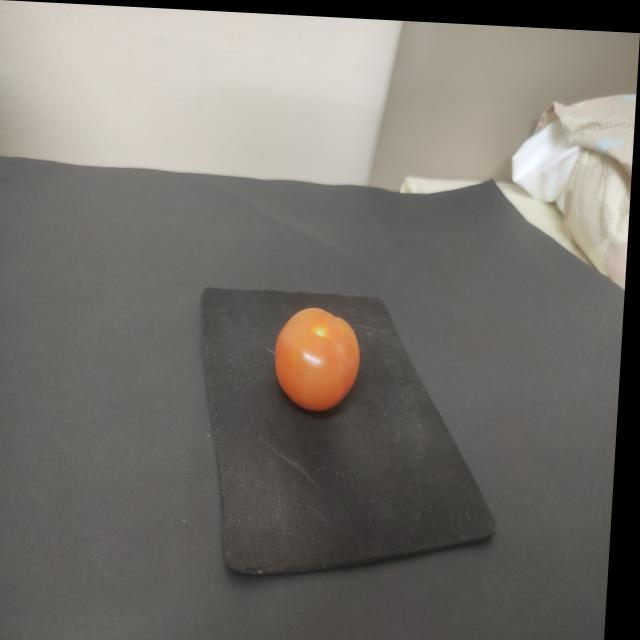sari: (257, 286, 387, 417)
